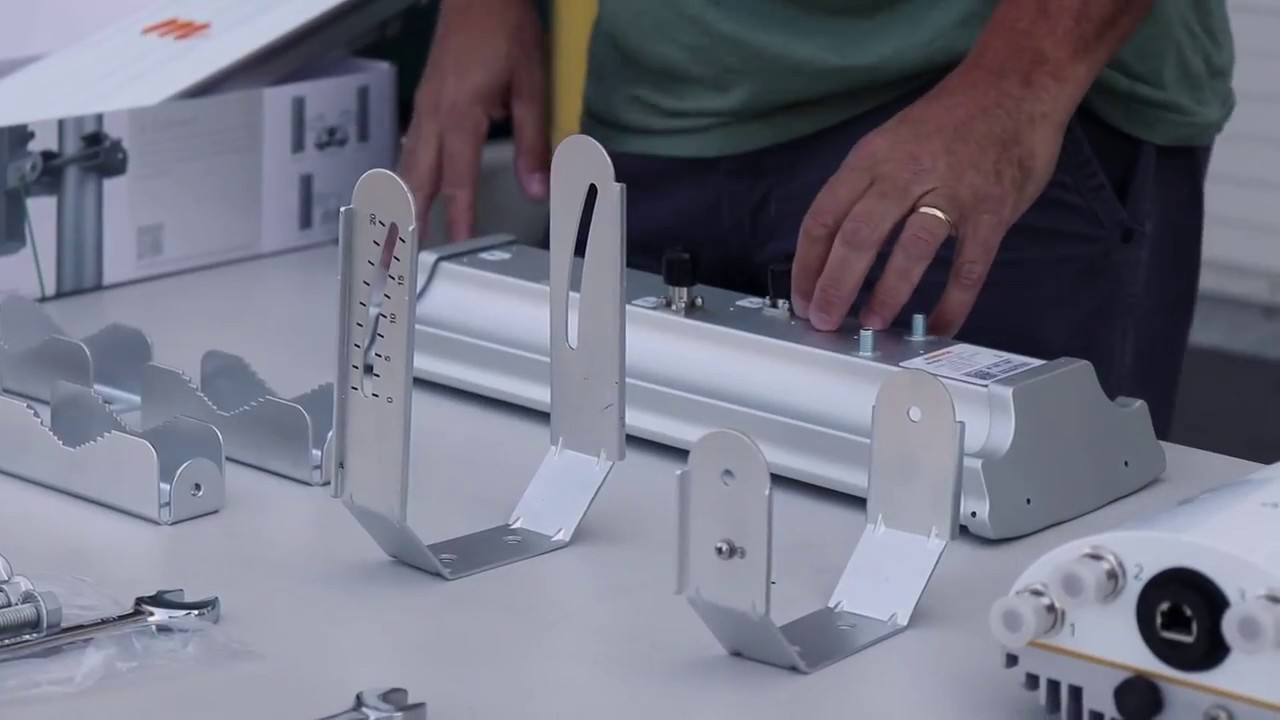sa: (380, 198, 1165, 537)
